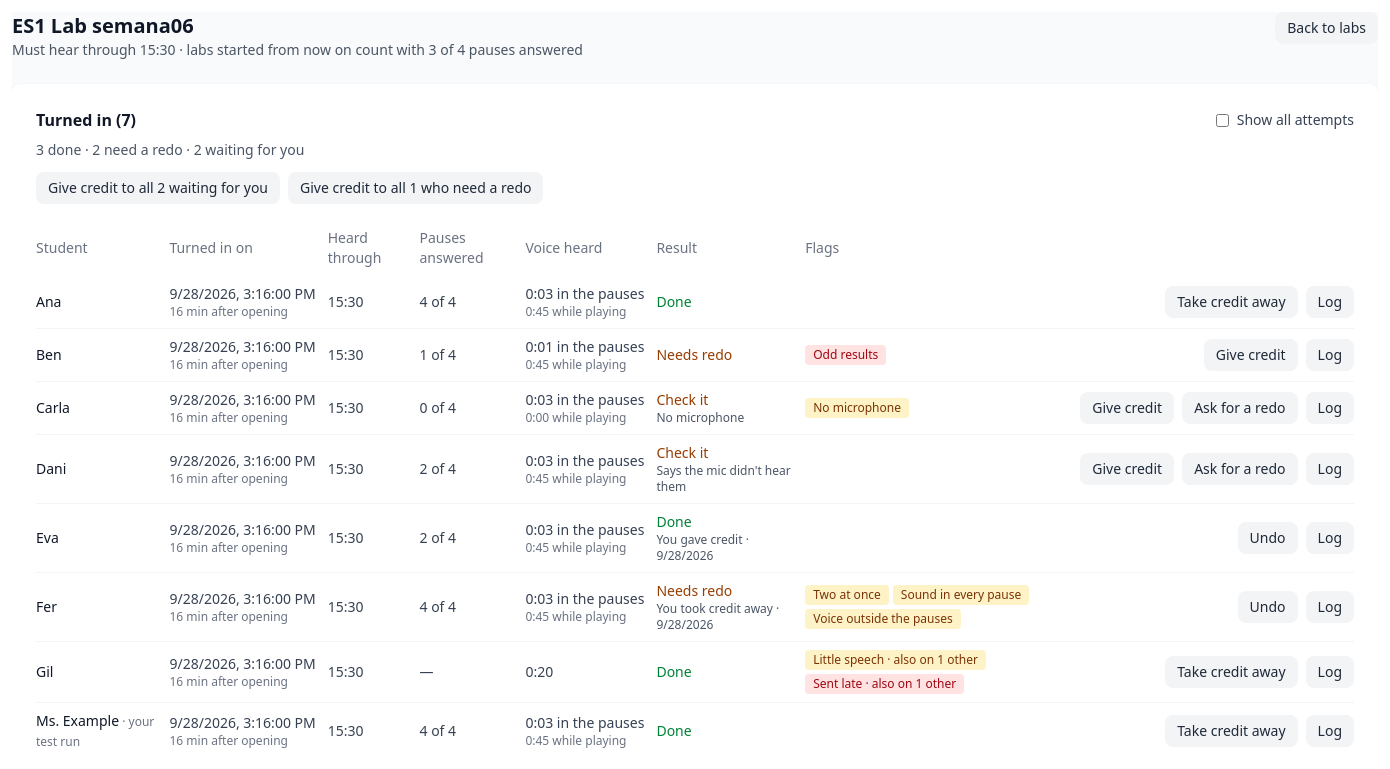
it: LabReview › shows a strip of the pauses and the voice each report carried in the log
Click the button with aria-label "Log: Ben" at [1330, 355], box 1306,339 -> 1354,371
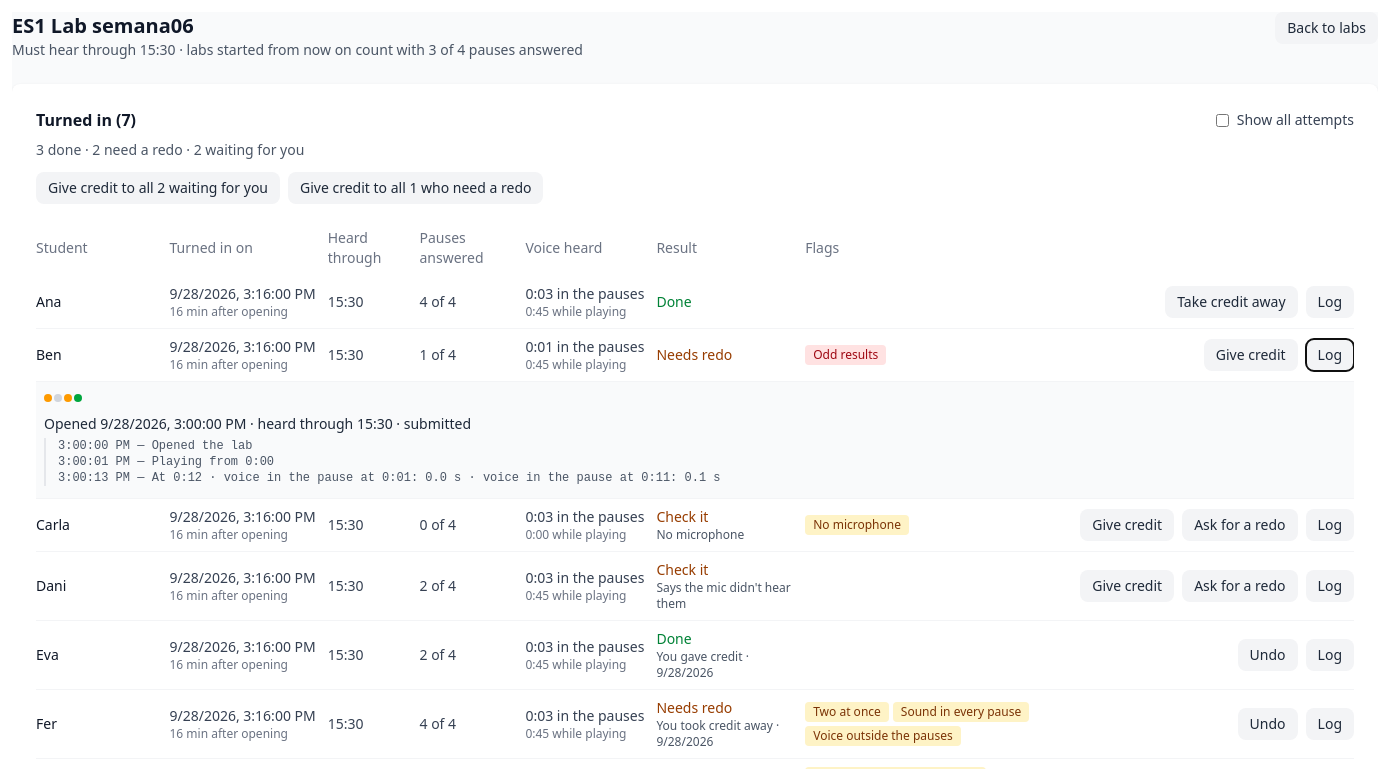
Expected: the list item "At 0:12 · voice in the pause at 0:01: 0.0 s · voice in the pause at 0:11: 0.1 s" is shown, 58,471 -> 720,485
